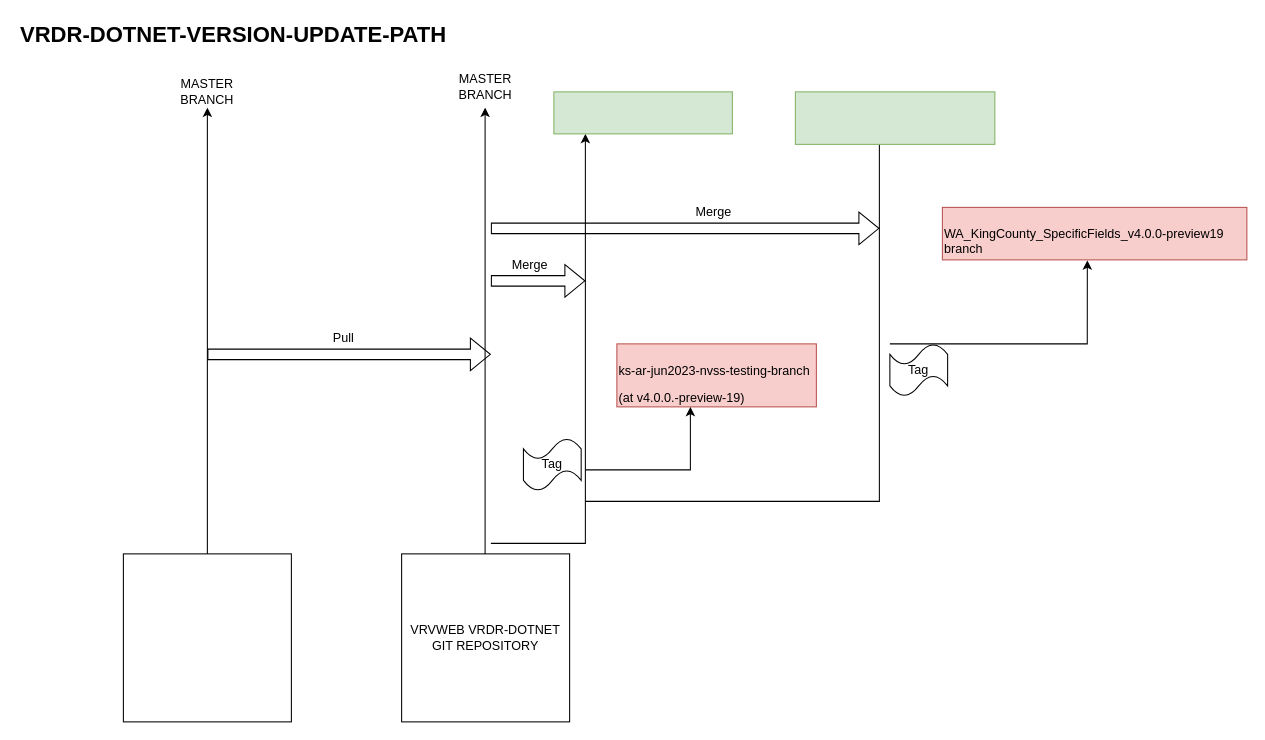
This 1265x740 diagram has some shape labels left out. The centre of each missing label's shape, as x and y in pixels:
"ks-ar-nvss-steve-endpoint-compliant branch" goes at pixel 642 112.
"MITRE VRDR-DOTNET GIT REPOSITORY" goes at pixel 206 637.
"WA_KingCounty_SpecificFields branch" goes at pixel 894 117.
